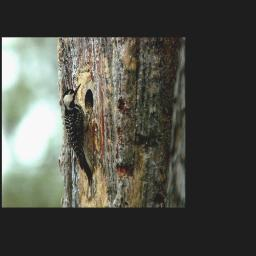Woodpecker: (58, 80, 101, 194)
